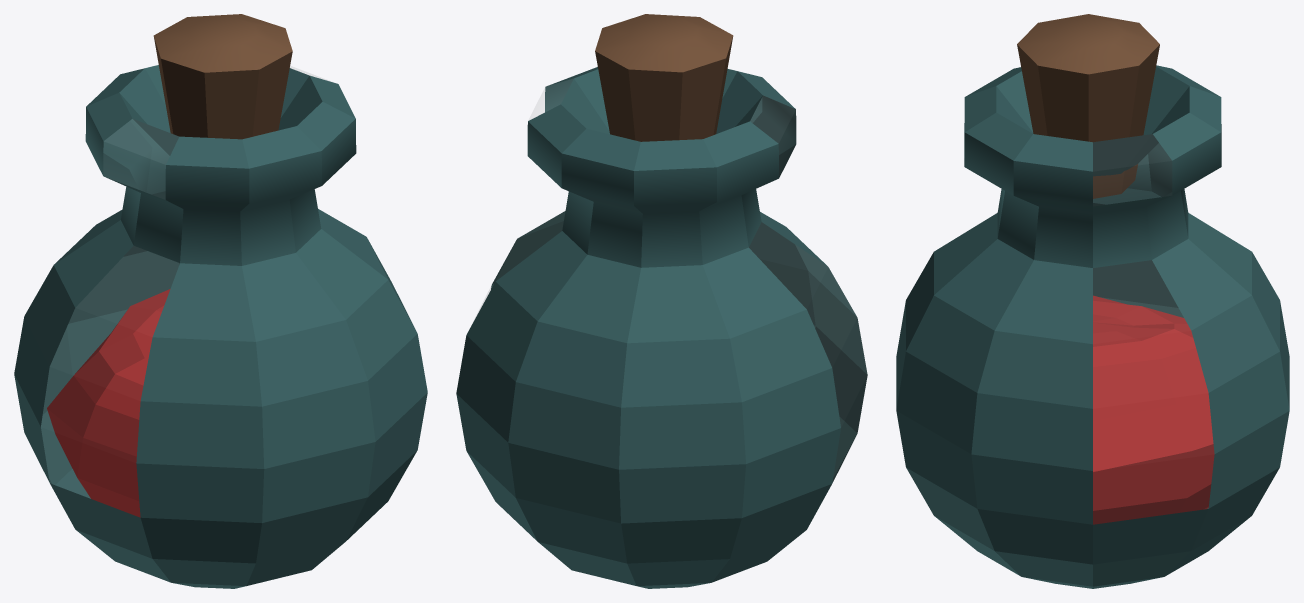
File: HealthPotion.fbx
3 renders of one model, left to right at view 1: azimuth 30°, elevation 25°; view 2: azimuth 150°, elevation 25°; view 3: azimuth 270°, elevation 25°, orthographic.
Parts seen in each view (by area): view 1: BottleHealth; view 2: BottleHealth; view 3: BottleHealth.
Part boxes in pixels (x1=…): BottleHealth: x1=14, y1=14, x2=427, y2=588; BottleHealth: x1=456, y1=14, x2=867, y2=588; BottleHealth: x1=896, y1=14, x2=1289, y2=588.
Bounding box in the file's own units: 0.1265 × 0.1817 × 0.1203.
